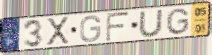3: (22, 18, 44, 49)
F: (105, 11, 131, 43)
G: (165, 7, 191, 36), (79, 14, 102, 43)
U: (138, 8, 164, 38)
X: (46, 15, 71, 47)
